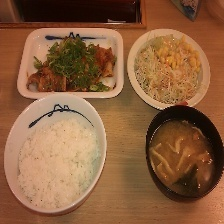rice: (15, 115, 105, 214)
